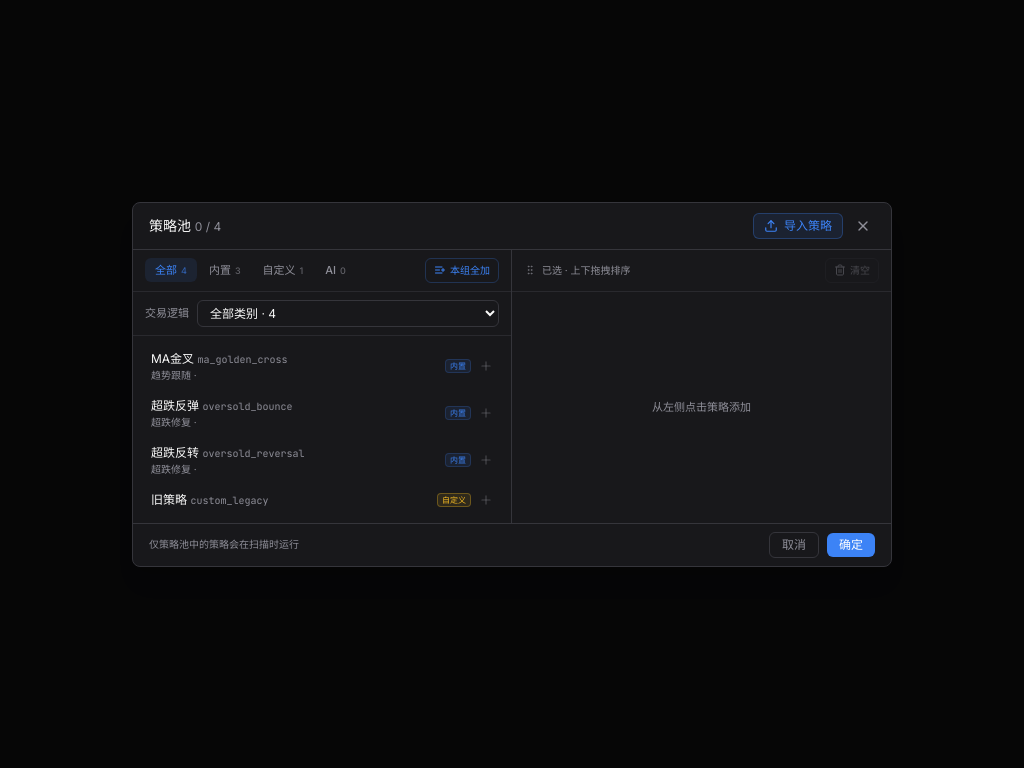
excludes research templates from the pool total and AI draft section
Click the button "AI0" at point(336, 270), box [315, 258, 356, 282]
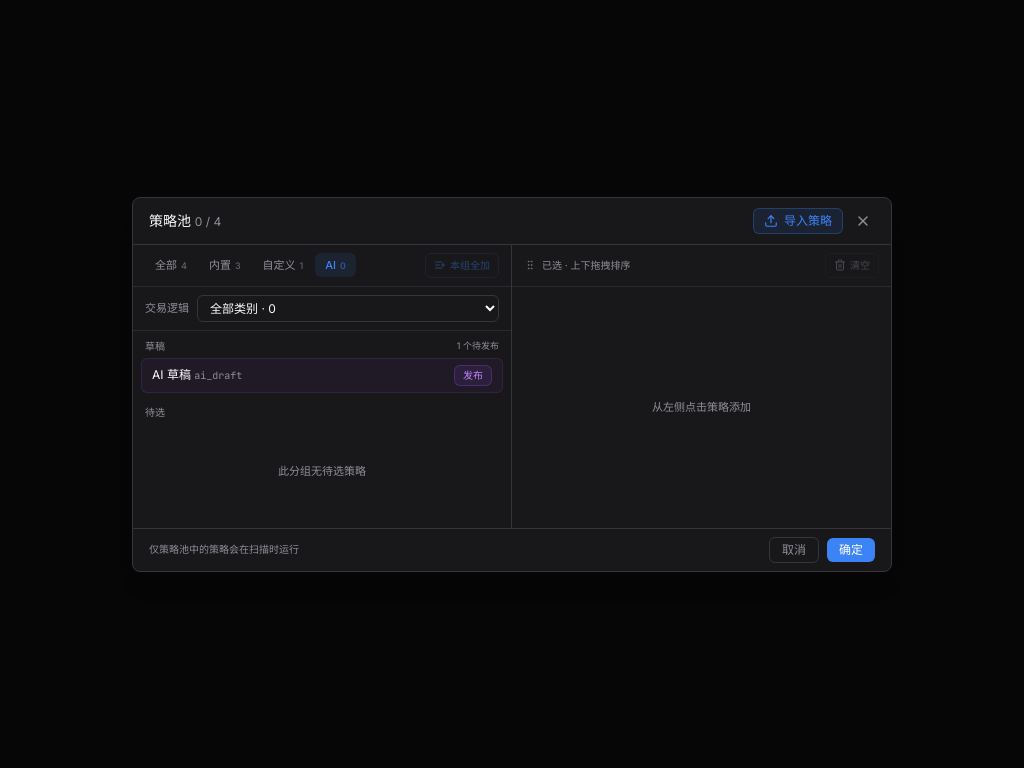
expect the text "1 个待发布" is shown: met, box [457, 339, 499, 353]
expect the text "AI 草稿" is shown: met, box [152, 367, 191, 382]
